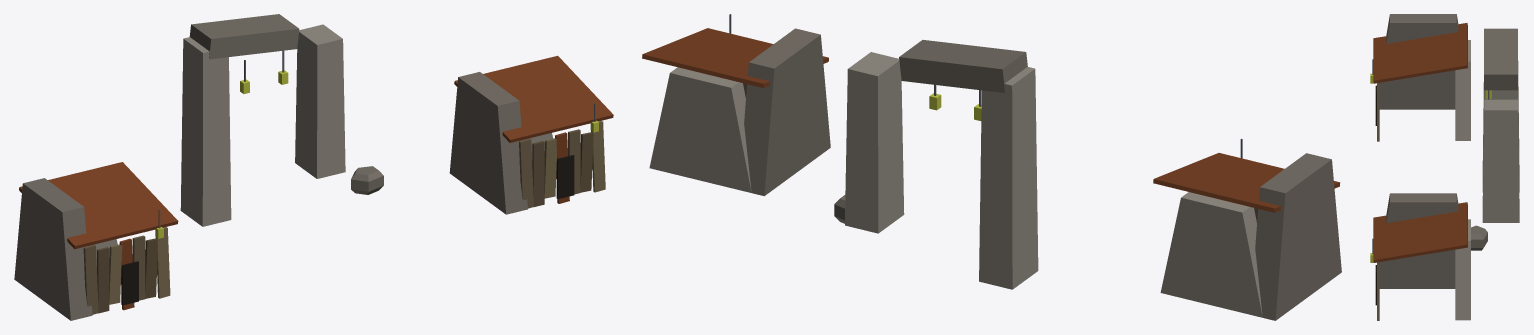
The model's file is ratfolk_court.glb.
3 renders of one model, left to right at view 1: azimuth 30°, elevation 25°; view 2: azimuth 150°, elevation 25°; view 3: azimuth 270°, elevation 25°, orthographic. The views are drawn at different scales.
Visible parts, largest first — view 1: ratfolk_court; view 2: ratfolk_court; view 3: ratfolk_court.
Boxes of the visible parts, x1,y1,x2,y2 form: ratfolk_court: [14, 14, 613, 320]; ratfolk_court: [642, 14, 1341, 320]; ratfolk_court: [1370, 14, 1519, 320].
Size of the model in its own units: 5.97 by 1.98 by 1.69.
